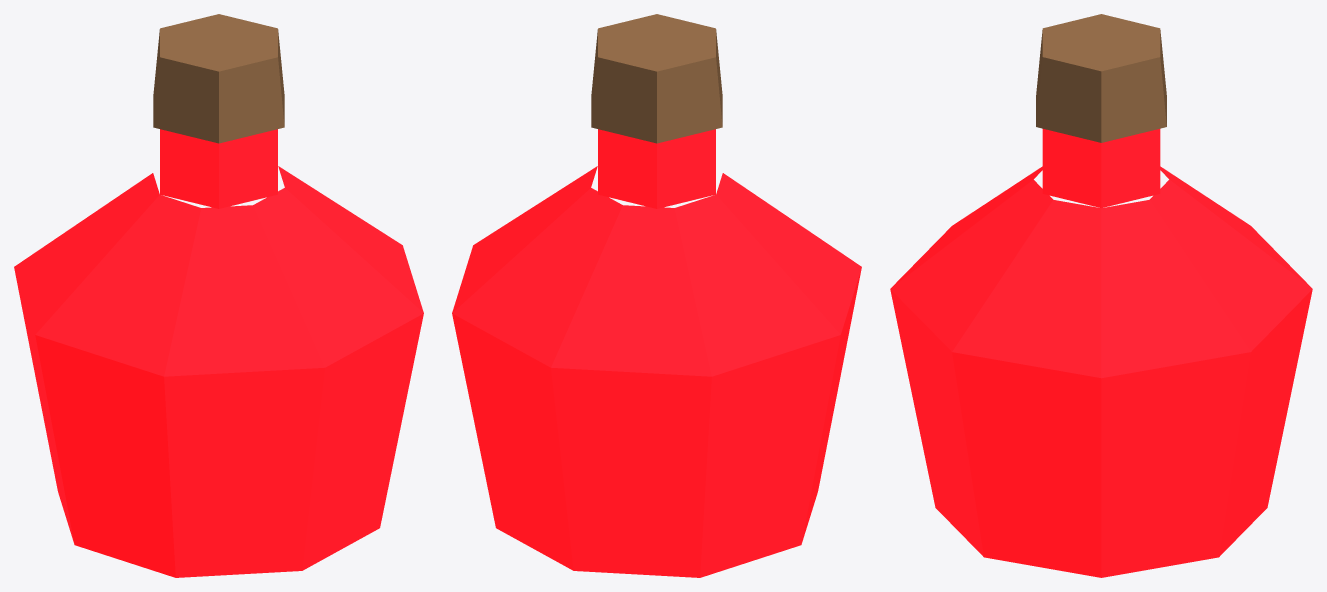
File: health_potion.glb
3 renders of one model, left to right at view 1: azimuth 30°, elevation 25°; view 2: azimuth 150°, elevation 25°; view 3: azimuth 270°, elevation 25°, orthographic.
Parts seen in each view (by area): view 1: health_potion; view 2: health_potion; view 3: health_potion.
Part boxes in pixels (<box>): health_potion: <box>14,14,423,577</box>; health_potion: <box>452,14,861,577</box>; health_potion: <box>890,14,1312,577</box>.
Bounding box in the file's own units: 0.35 × 0.425 × 0.35.
